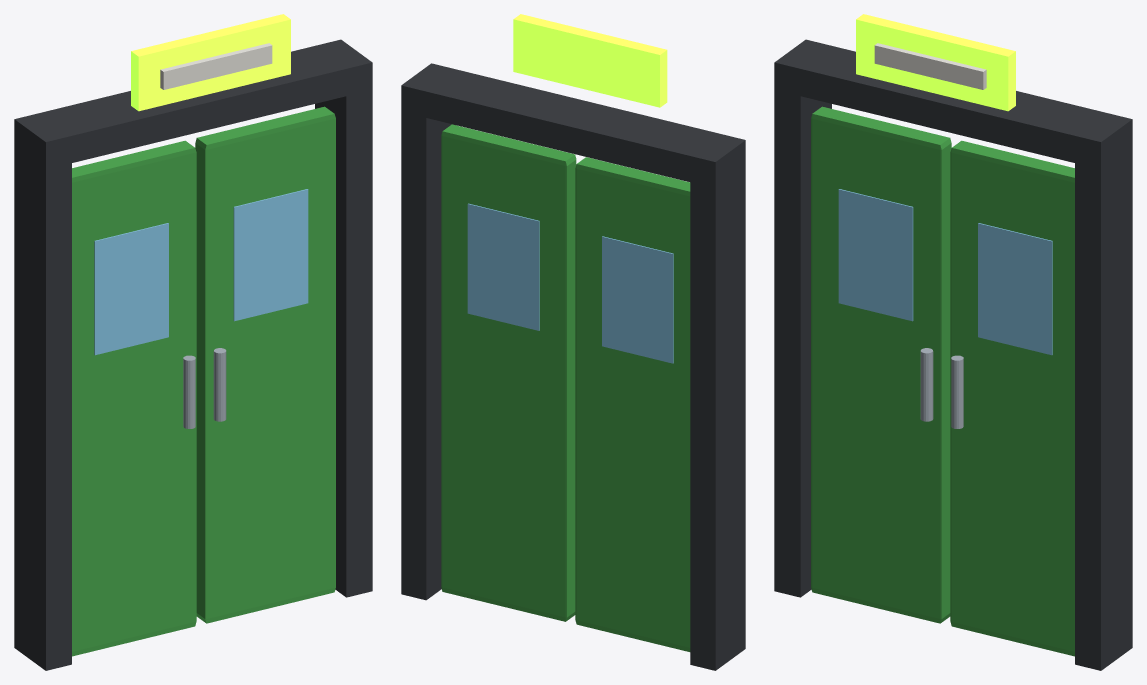
The model's file is exit-door-lod0.glb.
3 views of the same model, side by side, from view 1: azimuth 30°, elevation 25°; view 2: azimuth 150°, elevation 25°; view 3: azimuth 330°, elevation 25° (orthographic). The views are drawn at different scales.
Visible parts, largest first — view 1: exit-door; view 2: exit-door; view 3: exit-door.
Boxes of the visible parts, left/top/right/bottom form: exit-door: left=14, top=14, right=372, bottom=670; exit-door: left=401, top=14, right=745, bottom=670; exit-door: left=774, top=14, right=1132, bottom=670.
Bounding box in the file's own units: 1.5 × 2.62 × 0.32.
